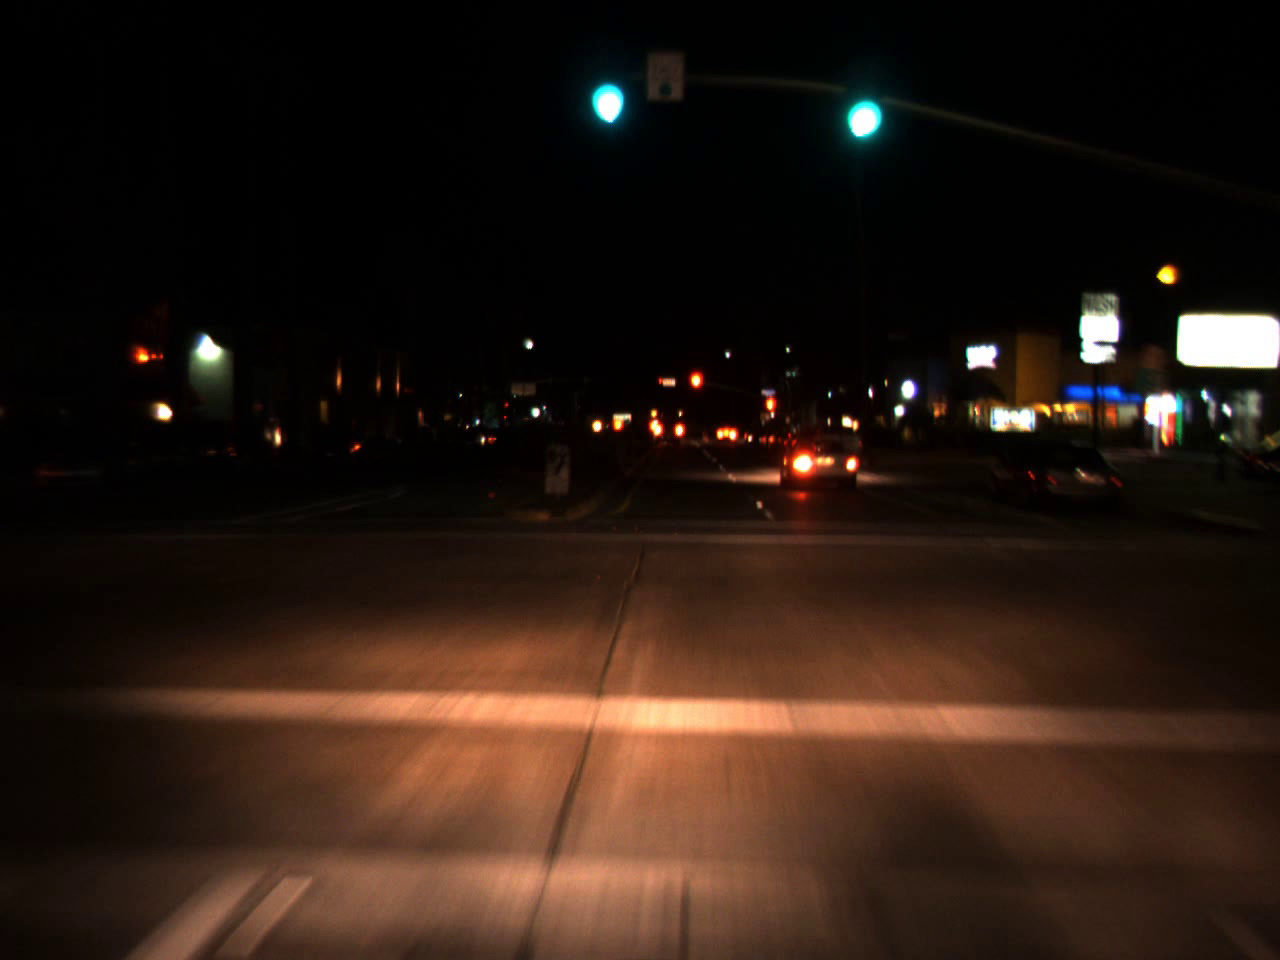go: (581, 50, 629, 134), (840, 68, 883, 149)
stop: (687, 370, 705, 415), (764, 391, 776, 436)
